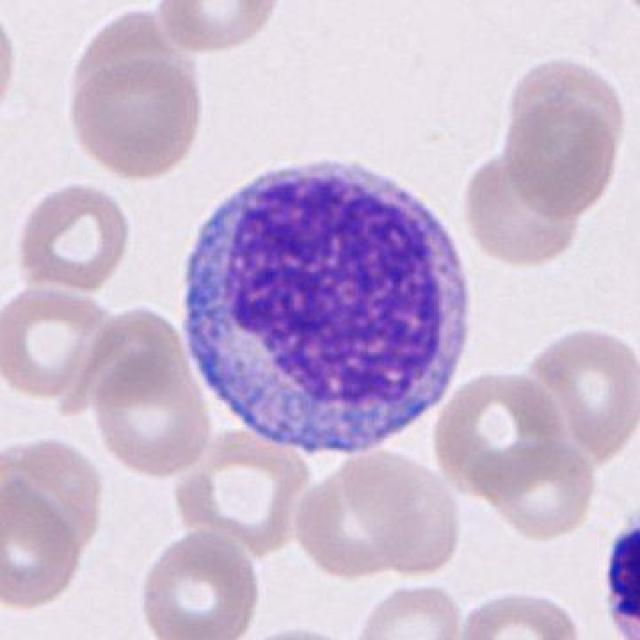RBC: (288, 444, 432, 585), (169, 423, 316, 560), (430, 366, 567, 502), (64, 54, 208, 182), (521, 320, 640, 462), (457, 144, 585, 274), (89, 345, 213, 478), (500, 100, 622, 222), (0, 281, 121, 402), (135, 526, 263, 640), (11, 178, 135, 295), (348, 450, 462, 570), (484, 436, 599, 542), (2, 475, 85, 613), (151, 0, 288, 55), (348, 578, 466, 640), (457, 586, 585, 640), (0, 2, 23, 128), (238, 618, 362, 640)
